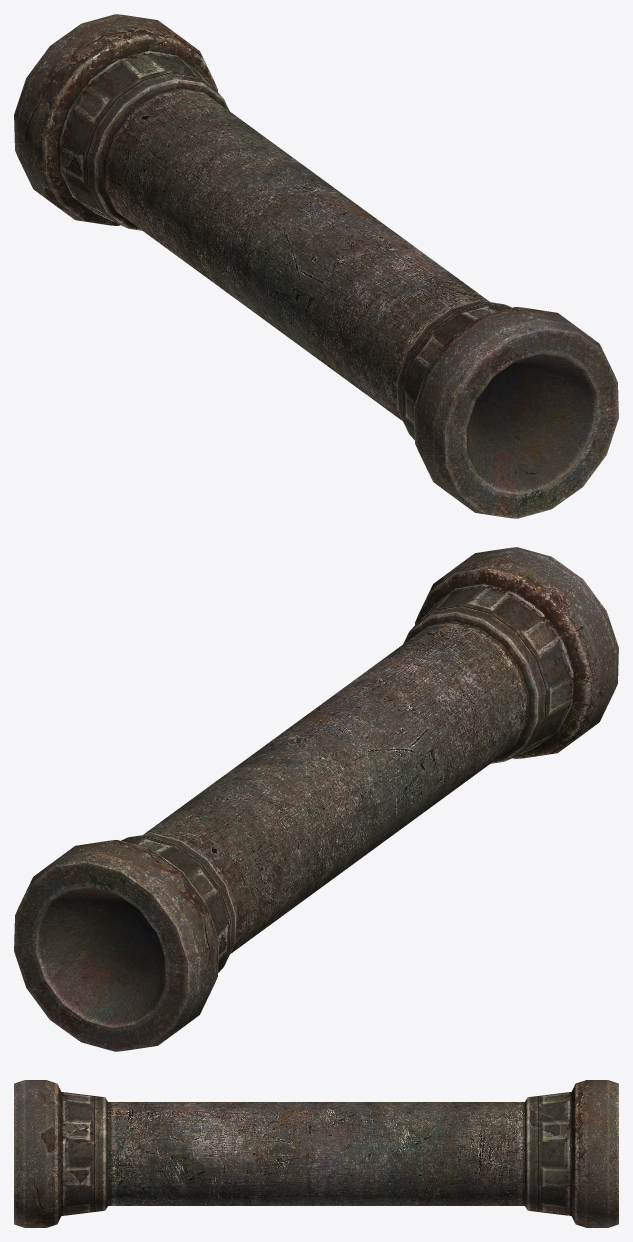
The model's file is pipe_large_short_pplant.dae.
The picture shows the model from 3 angles, top to bottom: view 1: azimuth 30°, elevation 25°; view 2: azimuth 150°, elevation 25°; view 3: azimuth 270°, elevation 25°; orthographic projection. The views are drawn at different scales.
Parts seen in each view (by area): view 1: polySurface2; view 2: polySurface2; view 3: polySurface2.
Boxes of the visible parts, box(x1,y1,x2,y2) form: polySurface2: box(14, 14, 618, 518); polySurface2: box(14, 547, 618, 1051); polySurface2: box(14, 1080, 618, 1227).
Size of the model in its own units: 0.4907 by 0.4907 by 2.
